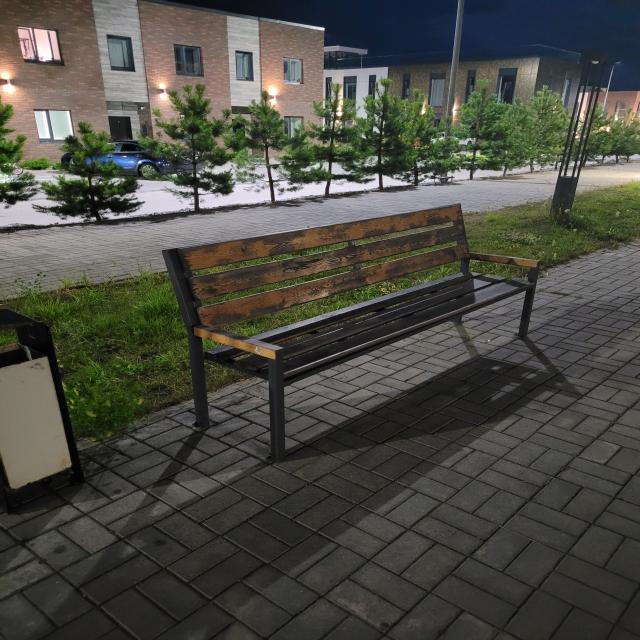Bench: (162, 203, 539, 464)
